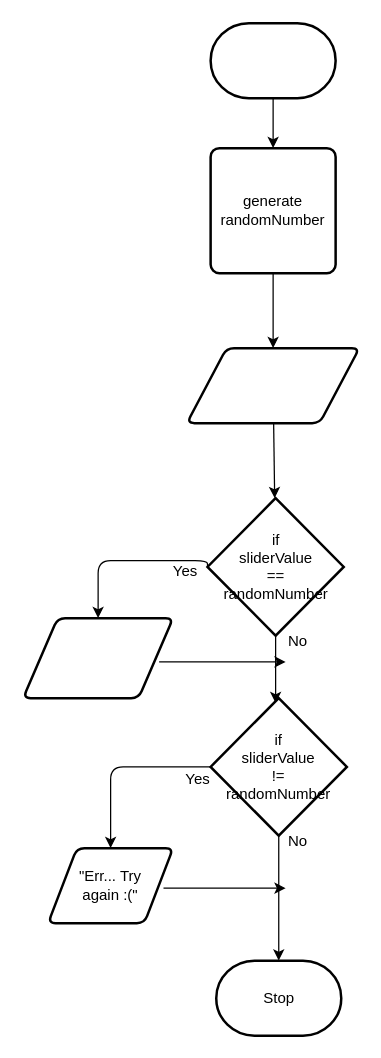
Some shapes in this 381 by 1058 pixel diagram are drawn without their labels. The shapes that lost their labels are listed below. From the top down, each one's centre as x and y in pixels, then its label:
point 272,60: Start
point 272,385: get sliderValue
point 97,657: "Ding!Ding! Ding! That's right!"
